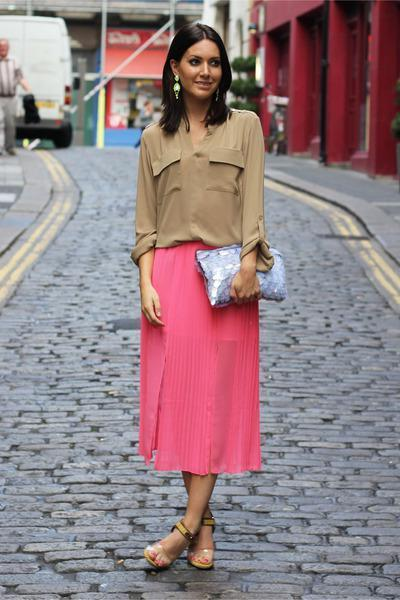long sleeve shirt: (132, 106, 272, 270)
skirt: (132, 242, 265, 476)
